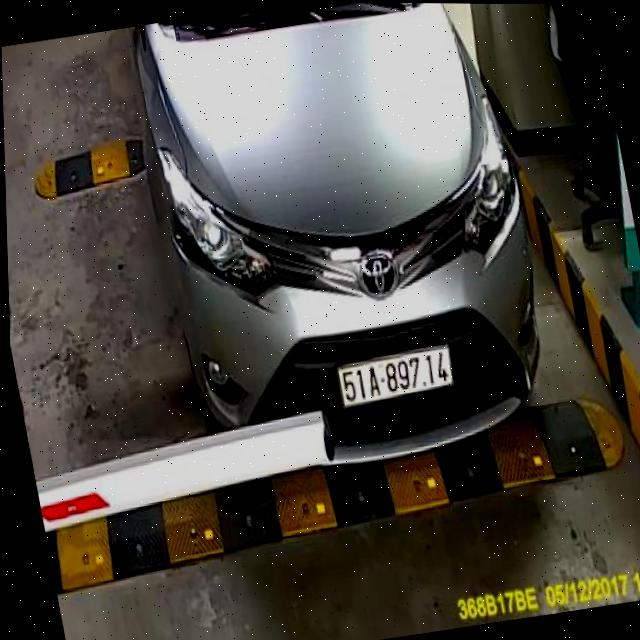car: (113, 1, 579, 496)
plate: (332, 344, 459, 407)
